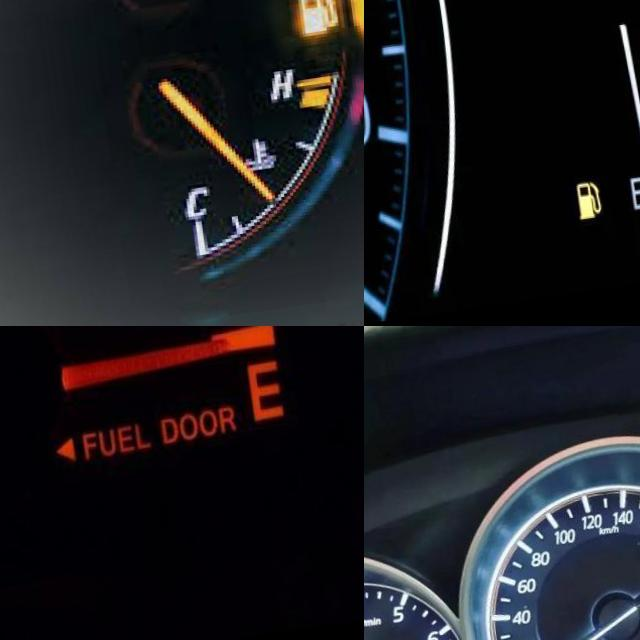High Engine Coolant Temperature: (230, 145, 264, 184)
